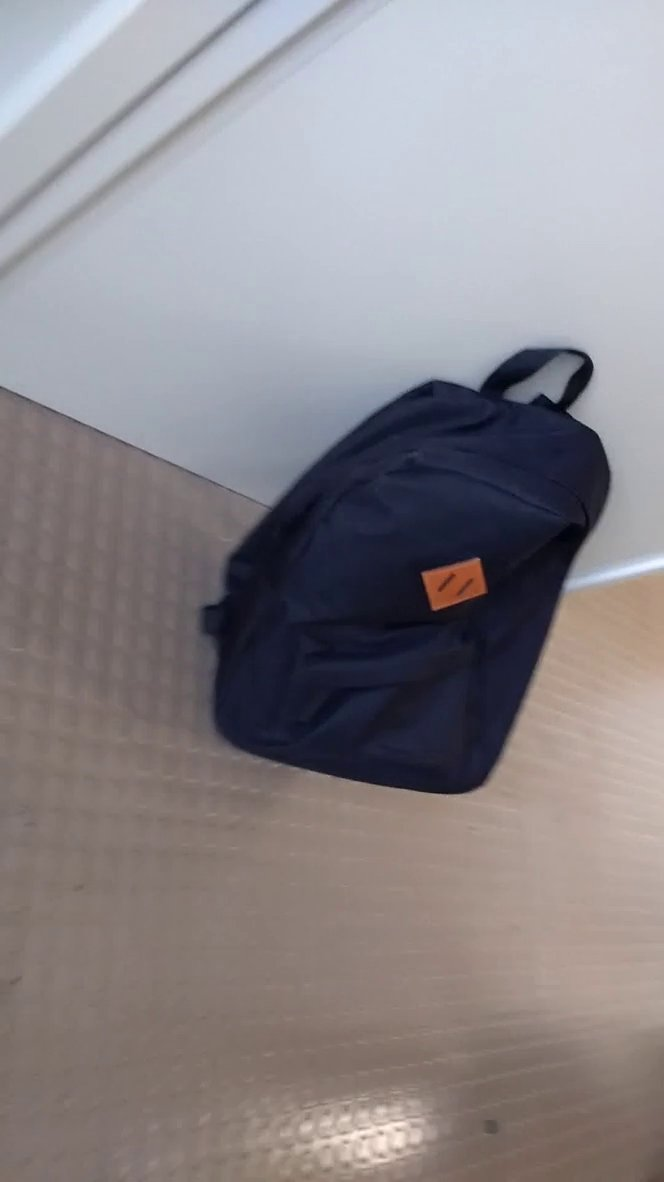bag: (193, 333, 618, 814)
